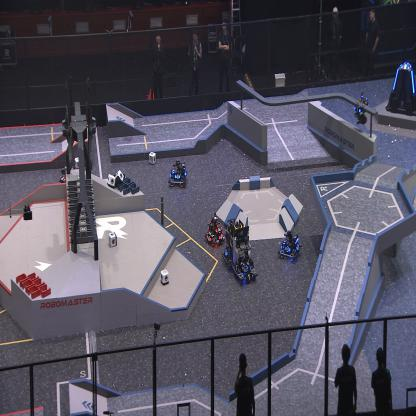car: (230, 224, 258, 283), (223, 218, 244, 268), (278, 230, 301, 260), (205, 214, 225, 246), (58, 164, 79, 193), (167, 159, 188, 187)
